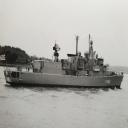Fragata: (4, 34, 125, 90)
